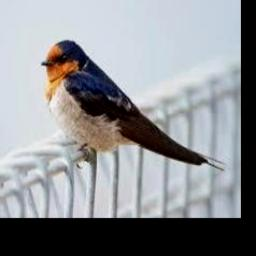Swallow: (41, 40, 226, 172)
